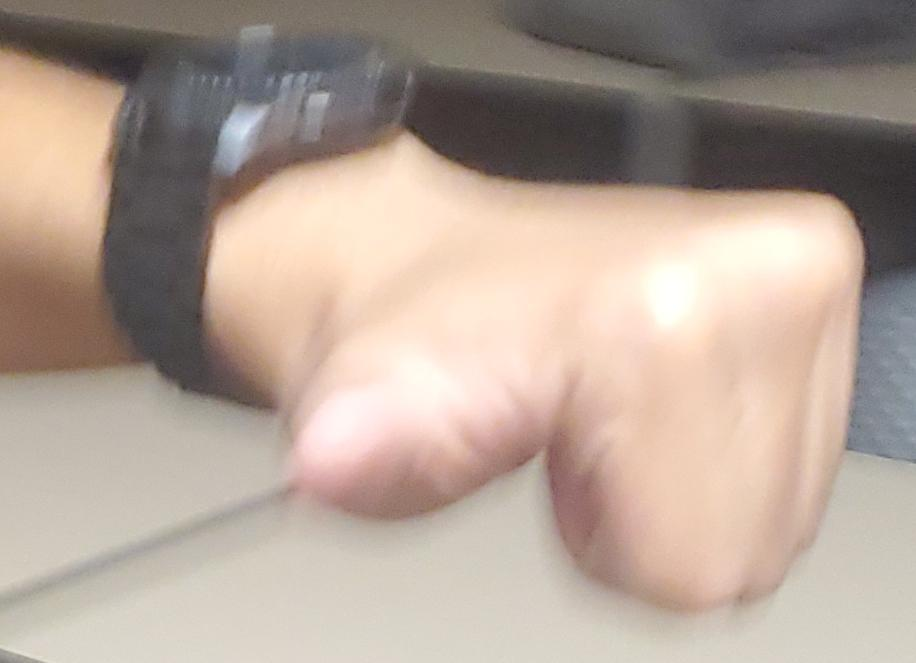right: (0, 1, 916, 663)
